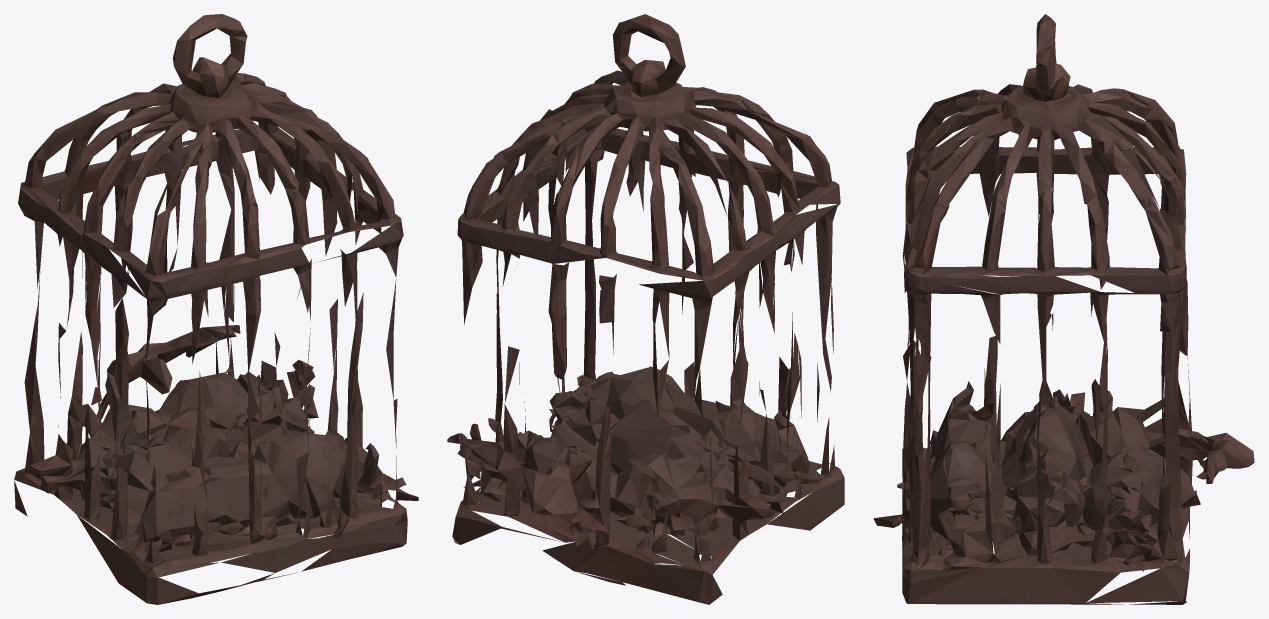
File: rat_cage.glb
3 views of the same model, side by side, from view 1: azimuth 30°, elevation 25°; view 2: azimuth 150°, elevation 25°; view 3: azimuth 270°, elevation 25° (orthographic). The views are drawn at different scales.
Parts seen in each view (by area): view 1: geometry_0; view 2: geometry_0; view 3: geometry_0.
Part boxes in pixels (x1,y1,x2,y2): geometry_0: (14,14,418,604); geometry_0: (447,14,844,604); geometry_0: (873,14,1254,604).
Size of the model in its own units: 0.5908 by 0.9474 by 0.6274.
Materials: 1 (1 with a texture image).
